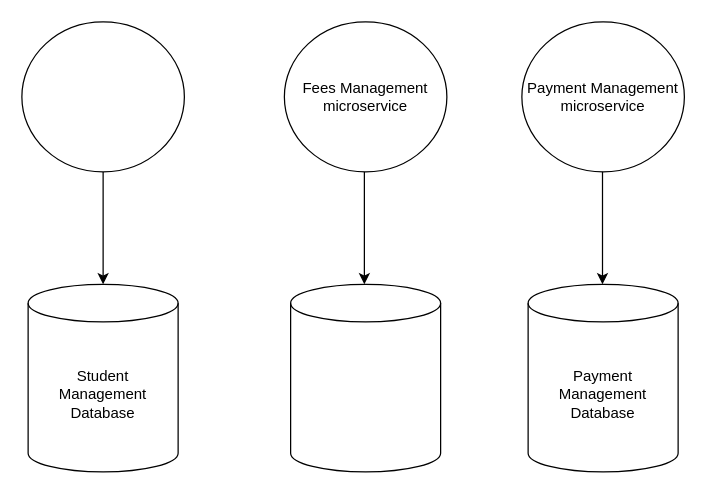
Image size: 706x494. Some labels were removed from this diagram. Each missing label, with the centre of its shape:
Fees Management Database: the point at 365,377
Student Management microservice: the point at 102,96
